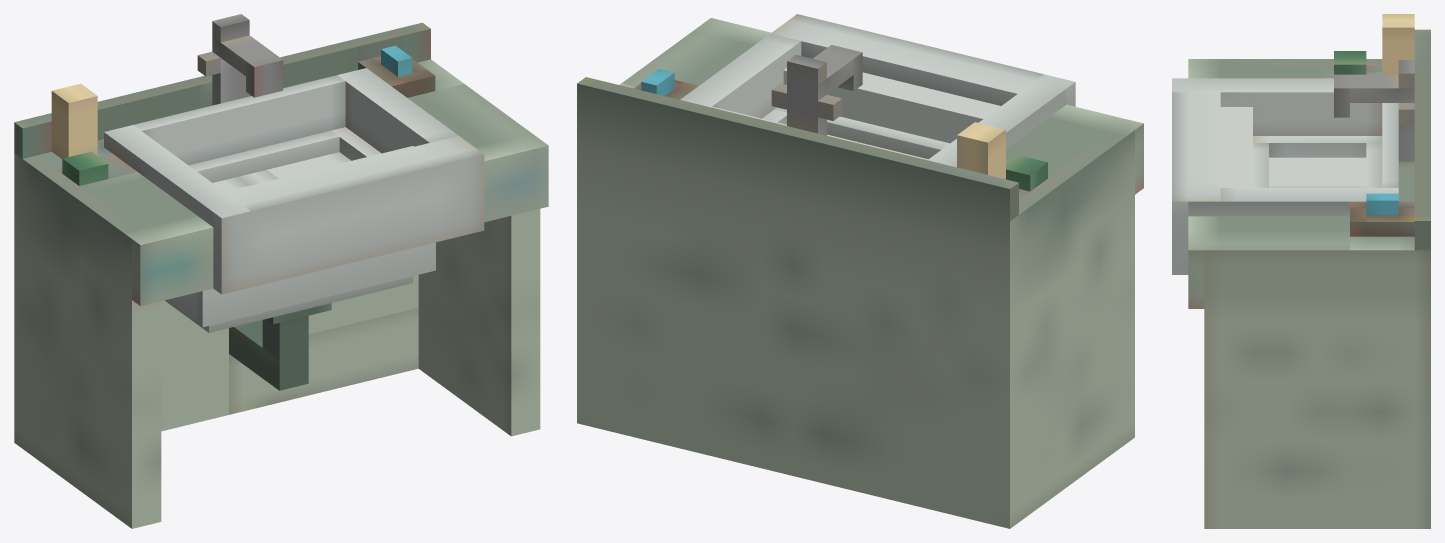
The model's file is SinkKitchen_00.fbx.
The picture shows the model from 3 angles, left to right: view 1: azimuth 30°, elevation 25°; view 2: azimuth 150°, elevation 25°; view 3: azimuth 270°, elevation 25°; orthographic projection. The views are drawn at different scales.
Visible parts, largest first — view 1: SinkKitchen_00; view 2: SinkKitchen_00; view 3: SinkKitchen_00.
Part boxes in pixels (x1,y1,x2,y2): SinkKitchen_00: [14, 14, 548, 528]; SinkKitchen_00: [577, 14, 1143, 528]; SinkKitchen_00: [1172, 14, 1430, 528].
Size of the model in its own units: 140 by 80 by 125.
Materials: 1 (1 with a texture image).
